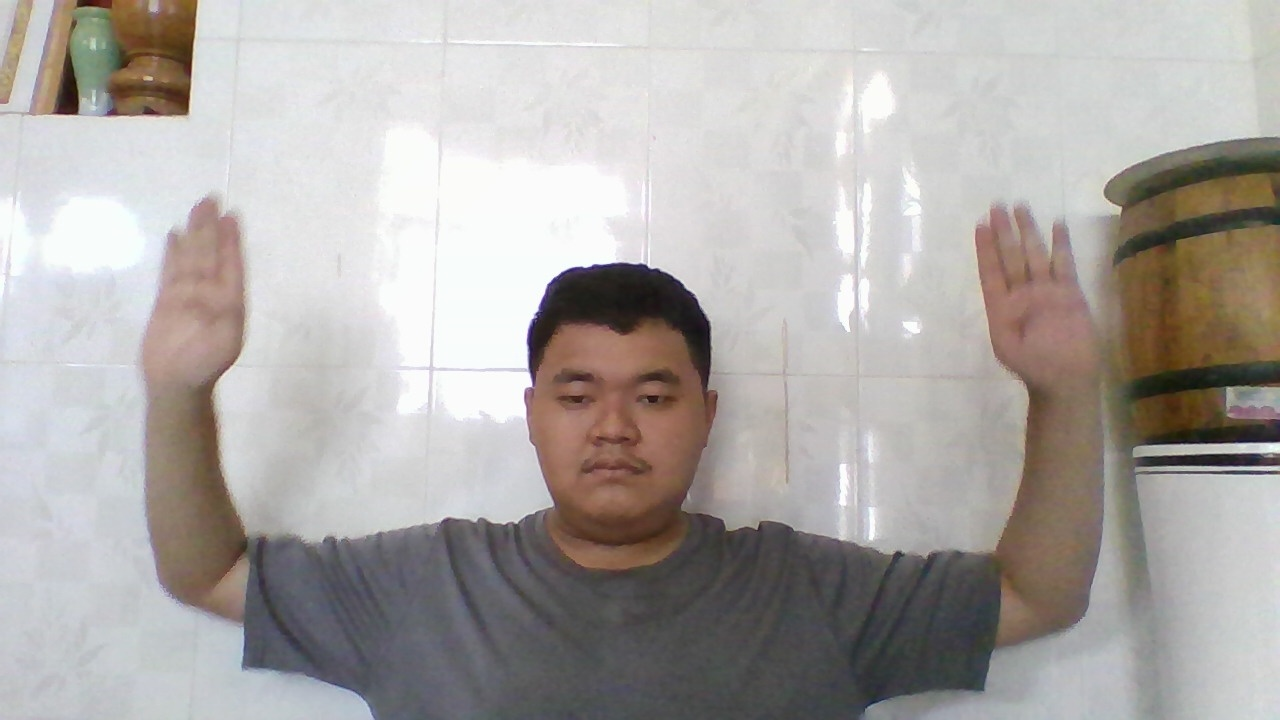B: (965, 193, 1086, 399), (151, 189, 249, 396)
